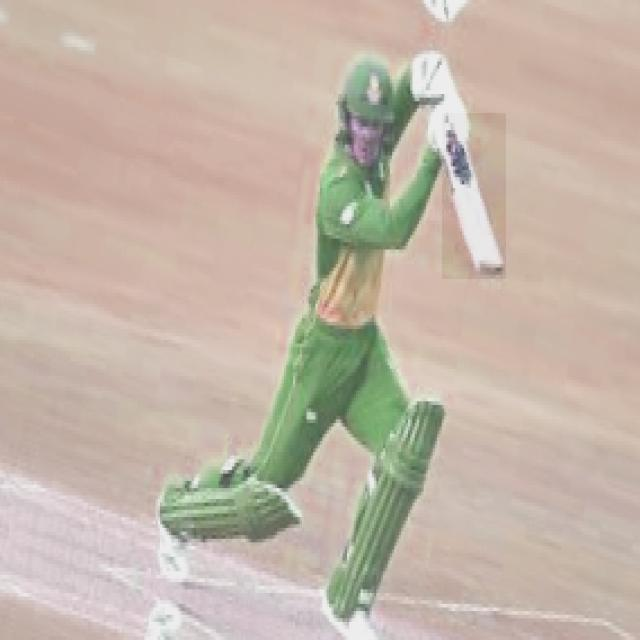bat: (444, 113, 509, 277)
toe: (479, 263, 504, 277)
